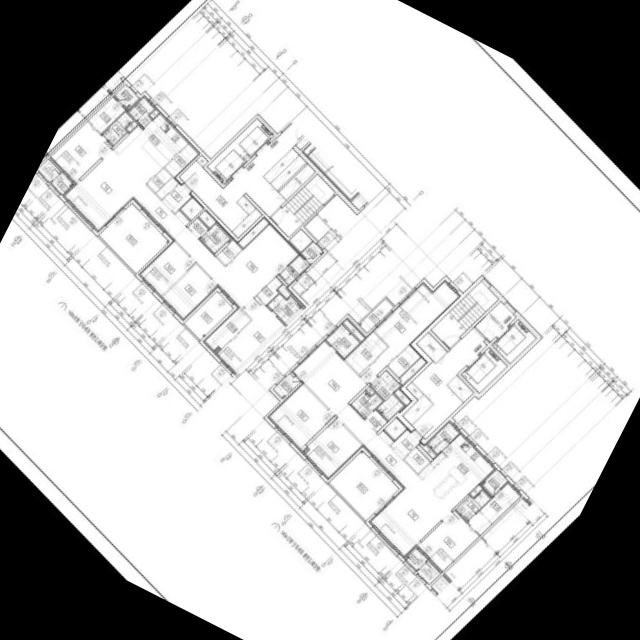background: (0, 0, 640, 640)
space_balconi: (328, 450, 398, 521), (98, 203, 168, 273), (183, 291, 233, 340), (405, 548, 440, 584), (37, 159, 72, 194), (358, 299, 393, 333)
space_bedroom: (359, 280, 459, 383), (216, 296, 292, 381), (416, 510, 491, 572), (267, 383, 333, 450), (49, 121, 112, 183), (304, 418, 362, 479), (138, 241, 195, 297), (161, 264, 217, 320)
space_dressroom: (203, 307, 250, 351), (344, 331, 387, 374), (479, 481, 521, 523), (88, 96, 125, 133), (387, 344, 420, 378), (257, 277, 282, 304)
space_elevator: (461, 347, 507, 393), (491, 319, 536, 363), (231, 118, 273, 160), (206, 142, 248, 184)
space_elevator_hall: (411, 301, 516, 439), (179, 123, 304, 231)
space_front: (390, 429, 429, 473), (156, 177, 192, 213)
space_kitchen: (418, 433, 495, 510), (113, 113, 189, 184)
space_living_room: (63, 150, 299, 309), (291, 340, 450, 558)
space_multipurpose_space: (325, 323, 359, 358), (426, 421, 460, 454), (278, 254, 310, 285), (127, 95, 155, 128)
space_other: (278, 164, 315, 200), (270, 155, 306, 191), (263, 148, 298, 183), (164, 143, 199, 177), (237, 217, 269, 248), (416, 332, 447, 363), (402, 394, 432, 425), (231, 208, 261, 238), (399, 357, 426, 385), (446, 375, 473, 402), (216, 239, 241, 265), (147, 168, 171, 192), (180, 197, 203, 220), (289, 229, 312, 252), (384, 417, 407, 440), (342, 318, 365, 341), (236, 195, 255, 214), (394, 388, 411, 406), (198, 210, 216, 227), (406, 382, 423, 400), (419, 443, 435, 458), (277, 284, 291, 298), (295, 136, 309, 149), (470, 484, 483, 497), (126, 121, 137, 132), (196, 155, 207, 166), (149, 108, 159, 118), (365, 386, 374, 395)
space_outdoor_room: (481, 469, 507, 496), (273, 373, 300, 398), (114, 84, 139, 109), (301, 241, 323, 264)
space_staircase: (430, 281, 498, 347), (271, 174, 334, 237)
space_toilet: (370, 370, 403, 420), (267, 294, 308, 330), (351, 391, 387, 431), (188, 218, 229, 253), (102, 112, 133, 145), (456, 490, 489, 521)
